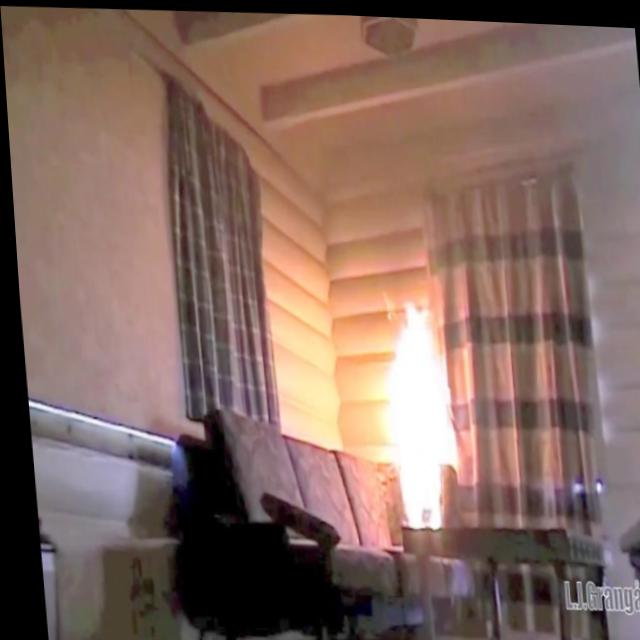fire: (365, 285, 462, 539)
